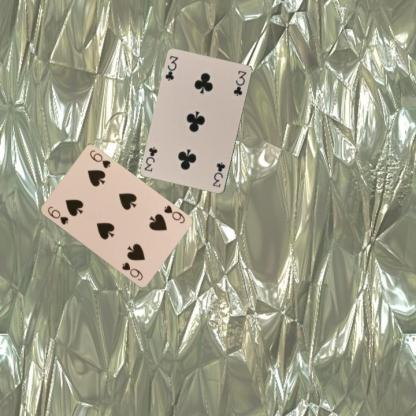3c: (162, 53, 180, 82), (210, 160, 226, 188)
6s: (44, 203, 70, 226), (161, 202, 186, 225)
